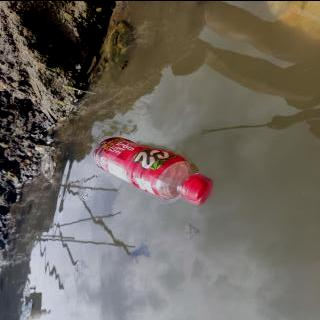bottle: (86, 134, 218, 207)
